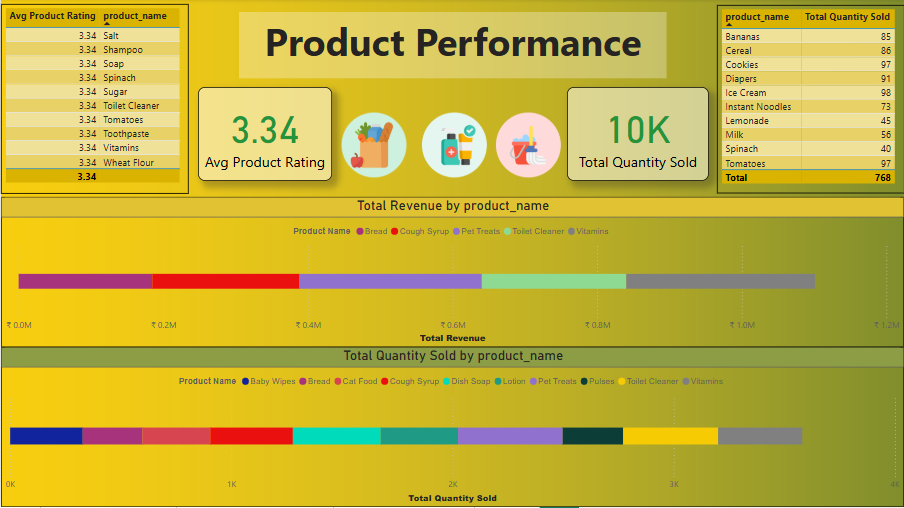

The page's visual inventory and layout, read from the dashboard file:
{"tool":"powerbi","page":{"name":"Product Performance","canvas":[1280,720],"ordinal":2},"visuals":[{"type":"barChart","fields":{"Series":["products.product_name"],"Y":["Measure Table.Total Revenue"]},"box":[0,280,1280,213.3],"z":0},{"type":"tableEx","fields":{"Values":["Measure Table.Avg Product Rating","products.product_name"]},"box":[0,6.5,265.7,269],"z":1000},{"type":"textbox","box":[336.8,18.6,606.5,94.2],"z":2000},{"type":"barChart","fields":{"Series":["products.product_name"],"Y":["Measure Table.Total Quantity Sold"]},"box":[0,493.3,1280,226.7],"z":3000},{"type":"tableEx","fields":{"Values":["products.product_name","Measure Table.Total Quantity Sold"]},"box":[1014.3,8.1,265.7,267.3],"z":4000},{"type":"card","fields":{"Values":["Measure Table.Avg Product Rating"]},"box":[278.7,124.8,189.6,132.9],"z":5000},{"type":"card","fields":{"Values":["Measure Table.Total Quantity Sold"]},"box":[802,124.8,200.9,132.9],"z":6000},{"type":"image","box":[468.3,155.5,121.5,102.1],"z":7000},{"type":"image","box":[589.8,155.5,105.3,102.1],"z":8000},{"type":"image","box":[695.1,155.5,106.9,102.1],"z":9000}]}

Visuals, with their boxes in screenshot pixels (x1, y1, x2, y2), scaled from the page's 1280x720 canvas onto the 904x508 screenshot:
barChart - products.product_name x Measure Table.Total Revenue: {"x1": 0, "y1": 198, "x2": 903, "y2": 348}
tableEx - Measure Table.Avg Product Rating x products.product_name: {"x1": 0, "y1": 5, "x2": 188, "y2": 194}
textbox: {"x1": 238, "y1": 13, "x2": 666, "y2": 80}
barChart - products.product_name x Measure Table.Total Quantity Sold: {"x1": 0, "y1": 348, "x2": 903, "y2": 507}
tableEx - products.product_name x Measure Table.Total Quantity Sold: {"x1": 716, "y1": 6, "x2": 903, "y2": 194}
card - Measure Table.Avg Product Rating: {"x1": 197, "y1": 88, "x2": 331, "y2": 182}
card - Measure Table.Total Quantity Sold: {"x1": 566, "y1": 88, "x2": 708, "y2": 182}
image: {"x1": 331, "y1": 110, "x2": 417, "y2": 182}
image: {"x1": 417, "y1": 110, "x2": 491, "y2": 182}
image: {"x1": 491, "y1": 110, "x2": 566, "y2": 182}
